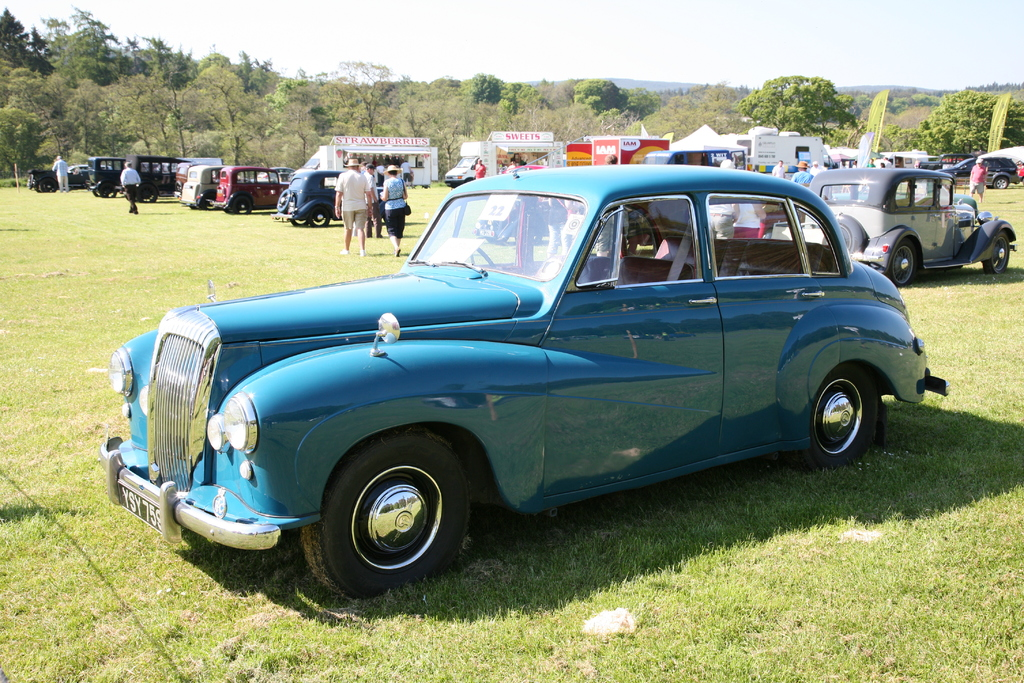Car: (21, 160, 1023, 599)
